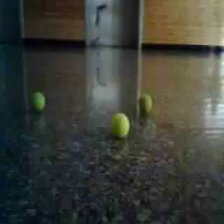tennis: (112, 113, 129, 138), (30, 92, 46, 113), (139, 95, 152, 114)
